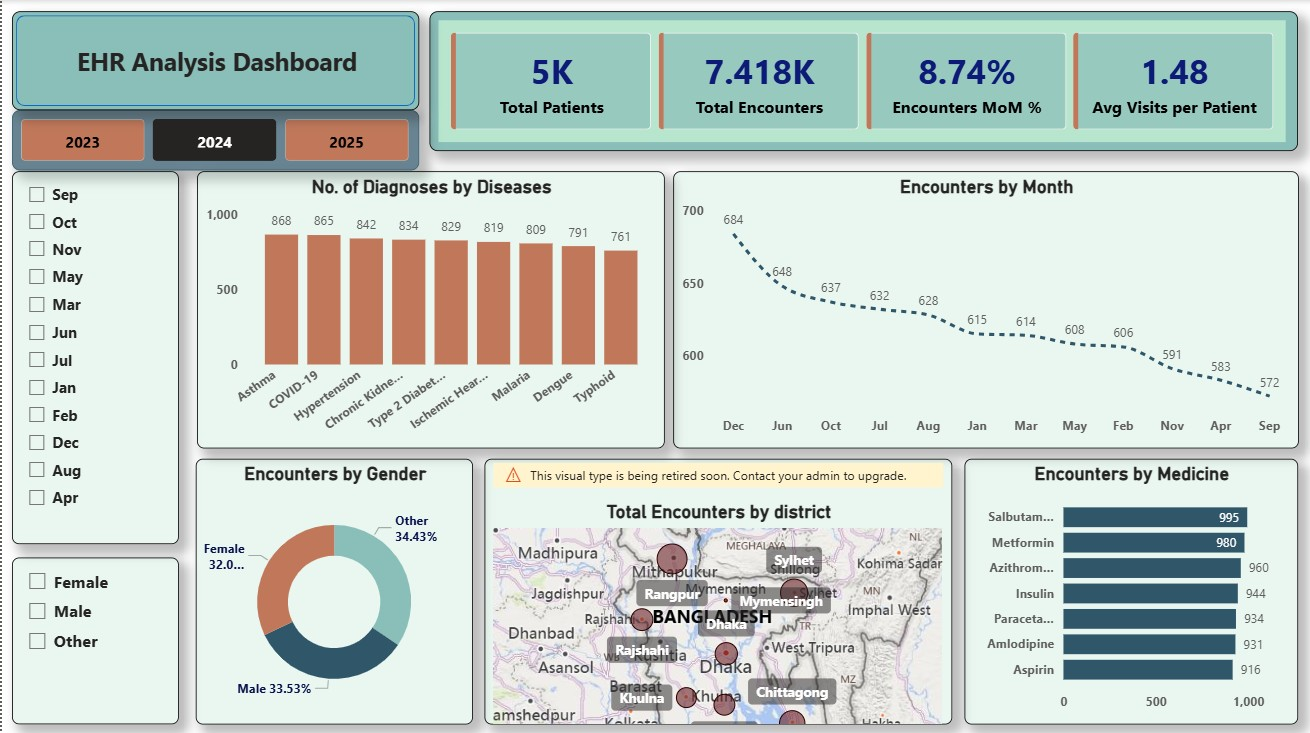

The page's visual inventory and layout, read from the dashboard file:
{"tool":"powerbi","page":{"name":"Page 1","canvas":[1280,720],"ordinal":0},"visuals":[{"type":"cardVisual","fields":{"Data":["Measure_Table.Total Patients","Measure_Table.Total Encounters","Measure_Table.Encounters MoM %","Measure_Table.Avg Visits per Patient"]},"box":[418.4,11.5,849.8,137.1],"z":0},{"type":"advancedSlicerVisual","fields":{"Values":["DateTable.Year"]},"box":[10.1,108.2,398.2,59.2],"z":1000},{"type":"slicer","fields":{"Values":["DateTable.MonthName"]},"box":[10.1,167.4,163,365],"z":2000},{"type":"clusteredColumnChart","title":"No. of Diagnoses by Diseases ","fields":{"Category":["diagnoses.description"],"Y":["CountNonNull(diagnoses.diagnosis_id)"]},"box":[190.4,167.4,457.4,271.2],"z":3000},{"type":"lineChart","title":"Encounters by Month","fields":{"Y":["Measure_Table.Total Encounters"],"Category":["DateTable.MonthName"]},"box":[656.5,167.4,611.7,271.2],"z":4000},{"type":"donutChart","title":"Encounters by Gender","fields":{"Category":["patients.sex"],"Y":["CountNonNull(encounters.encounter_id)"]},"box":[189,448.7,271.2,259.7],"z":5000},{"type":"map","fields":{"Category":["facilities.district"],"Size":["Measure_Table.Total Encounters"]},"box":[471.8,448.7,457.4,259.7],"z":6000},{"type":"clusteredBarChart","title":"Encounters by Medicine","fields":{"Category":["medications.med_name"],"Y":["CountNonNull(medications.encounter_id)"]},"box":[942.1,448.7,326.1,259.7],"z":7000},{"type":"shape","box":[10.1,11.5,398.2,96.7],"z":8000},{"type":"slicer","fields":{"Values":["patients.sex"]},"box":[10.1,545.4,163,163],"z":8001},{"type":"textbox","box":[44.7,39,330.4,53.4],"z":8002}]}

Visuals, with their boxes in screenshot pixels (x1, y1, x2, y2), scaled from the page's 1280x720 canvas onto the 1310x733 screenshot:
cardVisual - Measure_Table.Total Patients x Measure_Table.Total Encounters: x1=428 y1=12 x2=1298 y2=151
advancedSlicerVisual - DateTable.Year: x1=10 y1=110 x2=418 y2=170
slicer - DateTable.MonthName: x1=10 y1=170 x2=177 y2=542
"No. of Diagnoses by Diseases " clusteredColumnChart: x1=195 y1=170 x2=663 y2=447
"Encounters by Month" lineChart: x1=672 y1=170 x2=1298 y2=447
"Encounters by Gender" donutChart: x1=193 y1=457 x2=471 y2=721
map - facilities.district x Measure_Table.Total Encounters: x1=483 y1=457 x2=951 y2=721
"Encounters by Medicine" clusteredBarChart: x1=964 y1=457 x2=1298 y2=721
shape: x1=10 y1=12 x2=418 y2=110
slicer - patients.sex: x1=10 y1=555 x2=177 y2=721
textbox: x1=46 y1=40 x2=384 y2=94
